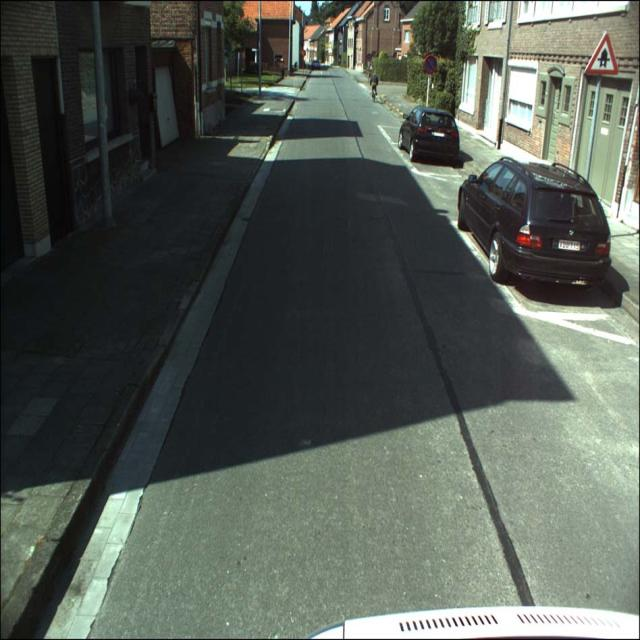parkyasak: (423, 54, 437, 74)
